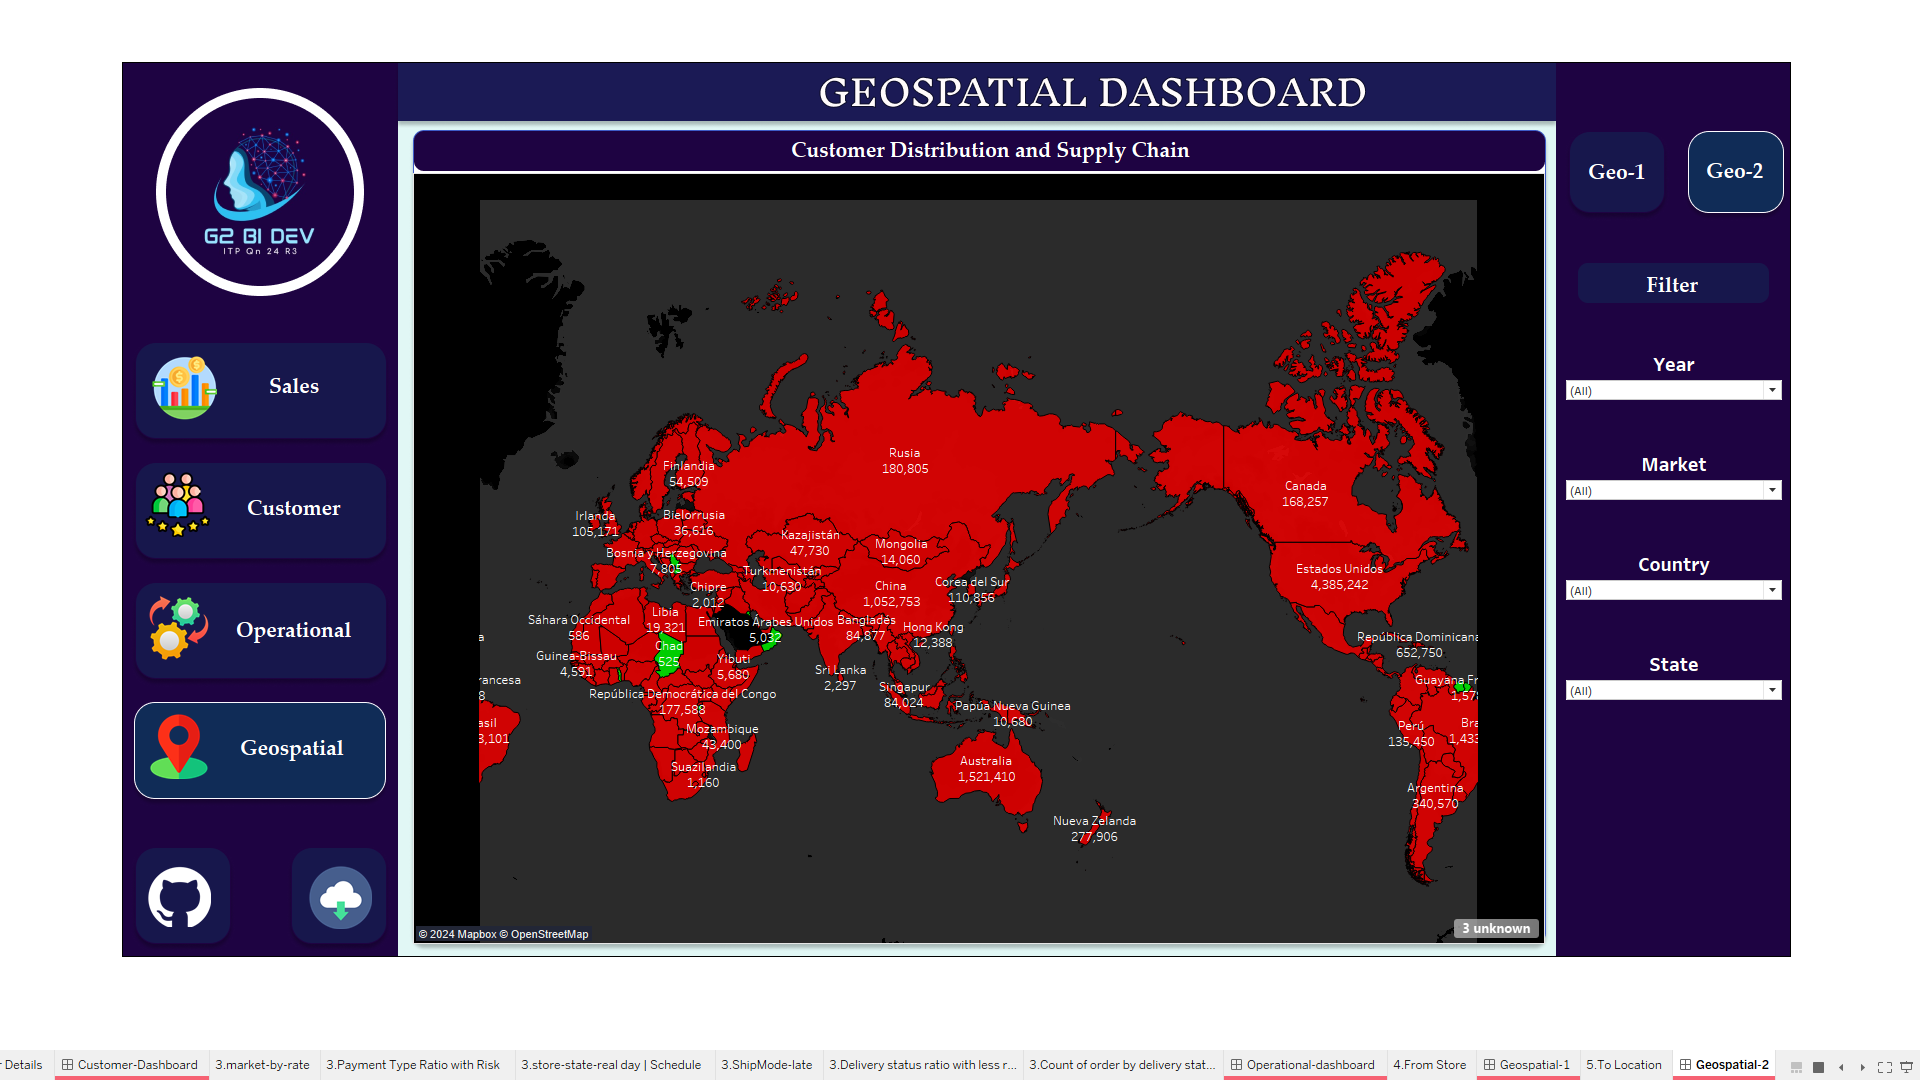

The page's visual inventory and layout, read from the dashboard file:
{"tool":"tableau","page":{"name":"Geospatial-2","canvas":[1700,950],"ordinal":2},"visuals":[{"type":"image","param":"C:/Users/mahmo/OneDrive/Desktop/Sales/background/New folder (2)/geo2.png","box":[8,8,1684,934]},{"type":"text","box":[841,84,462,36]},{"type":"text","box":[1350,84,309,36]},{"type":"dashboard-object","box":[309,92,77,49]},{"type":"dashboard-object","box":[422,94,77,49]},{"type":"text","box":[679,178,629,36]},{"type":"worksheet","title":"4.To Location","mark":"Multipolygon","box":[306,218,1311,652]},{"type":"dashboard-object","box":[108,300,153,70]},{"type":"image","param":"C:/Users/mahmo/OneDrive/Desktop/Sales-project/ICONS/sales-dashboard.png","box":[40,305,70,65]},{"type":"image","param":"C:/Users/mahmo/OneDrive/Desktop/Sales-project/ICONS/customer-dashboard.png","box":[33,422,70,65]},{"type":"dashboard-object","box":[108,422,153,70]},{"type":"image","param":"C:/Users/mahmo/OneDrive/Desktop/Sales-project/ICONS/operational-dashboard.png","box":[34,545,70,65]},{"type":"dashboard-object","box":[108,545,153,69]},{"type":"dashboard-object","box":[108,663,153,69]},{"type":"image","param":"C:/Users/mahmo/OneDrive/Desktop/Sales-project/ICONS/geo-dashboard.png","box":[34,664,70,65]},{"type":"image","param":"C:/Users/mahmo/OneDrive/Desktop/Sales-project/ICONS/github-mark-white.png","box":[38,812,63,70]},{"type":"dashboard-object","box":[199,813,63,70]}]}

Visuals, with their boxes on the page's 1700x950 design canvas (x1, y1, x2, y2). These are canvas units, not pixel positions in the 1920x1080 screenshot, which may show the page scaled, cropped or inside an application window:
image: detection(8, 8, 1692, 942)
text: detection(841, 84, 1303, 120)
text: detection(1350, 84, 1659, 120)
dashboard-object: detection(309, 92, 386, 141)
dashboard-object: detection(422, 94, 499, 143)
text: detection(679, 178, 1308, 214)
"4.To Location" worksheet (Multipolygon marks): detection(306, 218, 1617, 870)
dashboard-object: detection(108, 300, 261, 370)
image: detection(40, 305, 110, 370)
image: detection(33, 422, 103, 487)
dashboard-object: detection(108, 422, 261, 492)
image: detection(34, 545, 104, 610)
dashboard-object: detection(108, 545, 261, 614)
dashboard-object: detection(108, 663, 261, 732)
image: detection(34, 664, 104, 729)
image: detection(38, 812, 101, 882)
dashboard-object: detection(199, 813, 262, 883)
